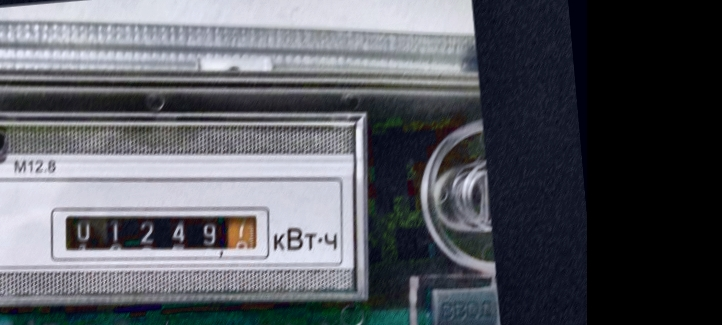0: (73, 215, 93, 242)
1: (106, 215, 122, 243)
2: (136, 219, 155, 246)
4: (169, 217, 187, 243)
7: (233, 212, 250, 239)
9: (198, 219, 217, 246)
screen: (46, 187, 275, 280)
